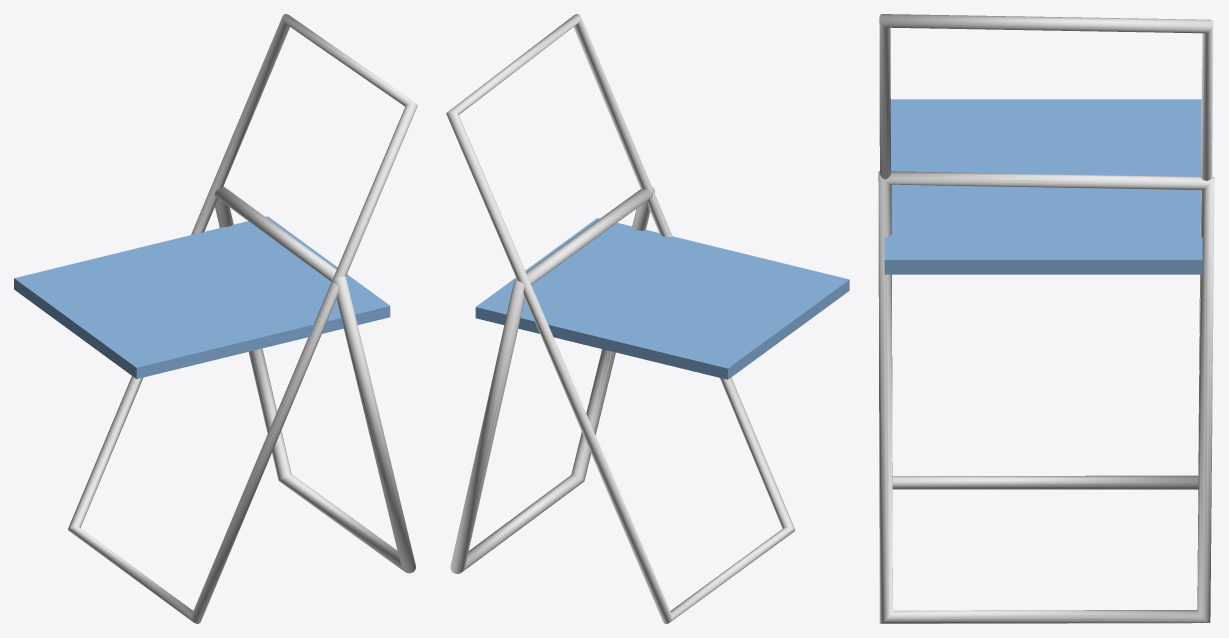
File: chair_7.glb
3 renders of one model, left to right at view 1: azimuth 30°, elevation 25°; view 2: azimuth 150°, elevation 25°; view 3: azimuth 270°, elevation 25°, orthographic. The views are drawn at different scales.
Parts seen in each view (by area): view 1: chair_metal_001.001; view 2: chair_metal_001.001; view 3: chair_metal_001.001.
Part boxes in pixels (x1,y1,x2,y2): chair_metal_001.001: (14,14,417,623); chair_metal_001.001: (446,14,849,623); chair_metal_001.001: (878,14,1214,623).
Size of the model in its own units: 0.2527 by 0.4044 by 0.2022.
